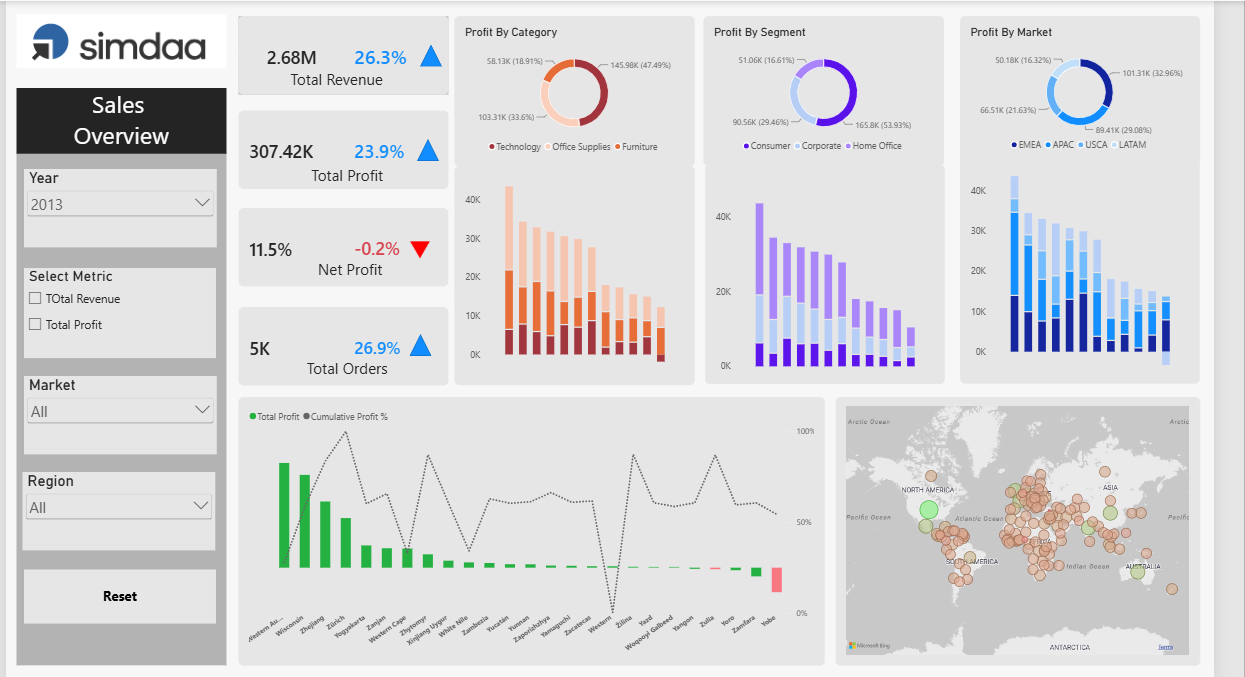

The dashboard page shown, as its layout file describes it:
{"tool":"powerbi","page":{"name":"Page 1","canvas":[1920,1080],"ordinal":0},"visuals":[{"type":"textbox","box":[15.9,138.5,333.9,104.5],"z":0},{"type":"textbox","box":[15.9,243,333.9,813.1],"z":1000},{"type":"slicer","fields":{"Values":["Calendar.Year"]},"box":[29.5,268,306.6,124.9],"z":2000},{"type":"slicer","fields":{"Values":["Orders.Region"]},"box":[26.2,749.2,306.6,124.9],"z":3000},{"type":"slicer","fields":{"Values":["Orders.Market"]},"box":[28.6,596.5,306.6,124.9],"z":4000},{"type":"cardVisual","title":"Total Revenue","fields":{"Data":["Calendar.TOtal Revenue"]},"box":[369.8,23.9,334,125],"z":5000},{"type":"group","id":"g1","title":"Group 1","box":[713.4,23.9,381.7,586.9],"z":6000},{"type":"donutChart","title":"Profit By Category","fields":{"Y":["Sum(Orders.Profit)"],"Category":["Orders.Category"]},"box":[713.4,23.9,382,239.5],"z":7000,"group":"g1"},{"type":"group","id":"g2","title":"Group 2","box":[1109.5,23.9,381.7,586.9],"z":7000},{"type":"donutChart","title":"Profit By Segment","fields":{"Y":["Sum(Orders.Profit)"],"Category":["Orders.Segment"]},"box":[1109.5,23.9,382.8,238.6],"z":8000,"group":"g2"},{"type":"group","id":"g3","title":"Group 3","box":[1517.4,23.9,381.7,584.5],"z":8000},{"type":"textbox","box":[714,19,334,310],"z":9000},{"type":"donutChart","title":"Profit By Market","fields":{"Y":["Sum(Orders.Profit)"],"Category":["Orders.Market"]},"box":[1517.4,23.9,381.7,236.8],"z":9000,"group":"g3"},{"type":"cardVisual","fields":{"Data":["Calendar.Total Profit"]},"box":[369.8,174.2,334,125],"z":10000},{"type":"columnChart","fields":{"Y":["Sum(Orders.Profit)"],"Category":["Orders.Month Name"],"Series":["Orders.Market"]},"box":[1517.7,246,381.3,362.4],"z":10000,"group":"g3"},{"type":"columnChart","fields":{"Y":["Sum(Orders.Profit)"],"Category":["Orders.Month Name"],"Series":["Orders.Segment"]},"box":[1111.1,260.8,381.2,349.4],"z":10000,"group":"g2"},{"type":"columnChart","fields":{"Y":["Sum(Orders.Profit)"],"Series":["Orders.Category"],"Category":["Orders.Month Name"]},"box":[714.1,262.1,382,348.8],"z":10000,"group":"g1"},{"type":"cardVisual","fields":{"Data":["Orders.Net Profit"]},"box":[369.8,329.3,334,125],"z":11000},{"type":"cardVisual","fields":{"Data":["Orders.Total Orders"]},"box":[369.8,486.7,334,125],"z":12000},{"type":"textbox","box":[379.4,107.4,293.5,40.6],"z":13000},{"type":"textbox","box":[396.1,260.1,293.5,38.2],"z":14000},{"type":"textbox","box":[400.8,410.4,293.5,42.9],"z":15000},{"type":"textbox","box":[396.1,567.8,293.5,40.6],"z":16000},{"type":"image","box":[610.8,381.7,95.4,28.6],"z":17000},{"type":"slicer","fields":{"Values":["Select Metric.Select Metric"]},"box":[28.6,424.7,305.4,143.2],"z":18000},{"type":"lineStackedColumnComboChart","fields":{"Y":["Calendar.Total Profit"],"Y2":["Calendar.Cumulative Profit %"],"Category":["Orders.State"]},"box":[369.8,629.9,932.9,427.1],"z":19000},{"type":"map","fields":{"Size":["Calendar.Total Profit"],"Category":["Orders.Country"]},"box":[1319.4,629.9,579.8,427.1],"z":20000},{"type":"shape","box":[641.8,529.7,35,35],"z":21000},{"type":"shape","box":[653.7,219.5,35,35],"z":22000},{"type":"shape","box":[658.5,69.2,35,35],"z":23000},{"type":"actionButton","box":[28.6,904.3,305.4,85.9],"z":24000},{"type":"image","box":[16.7,0,334,128.8],"z":25000}]}

Visuals, with their boxes on the page's 1920x1080 design canvas (x1, y1, x2, y2). These are canvas units, not pixel positions in the 1245x677 screenshot, which may show the page scaled, cropped or inside an application window:
textbox: x1=16 y1=138 x2=350 y2=243
textbox: x1=16 y1=243 x2=350 y2=1056
slicer - Calendar.Year: x1=30 y1=268 x2=336 y2=393
slicer - Orders.Region: x1=26 y1=749 x2=333 y2=874
slicer - Orders.Market: x1=29 y1=596 x2=335 y2=721
"Total Revenue" cardVisual: x1=370 y1=24 x2=704 y2=149
"Group 1" group: x1=713 y1=24 x2=1095 y2=611
"Profit By Category" donutChart: x1=713 y1=24 x2=1095 y2=263
"Group 2" group: x1=1110 y1=24 x2=1491 y2=611
"Profit By Segment" donutChart: x1=1110 y1=24 x2=1492 y2=262
"Group 3" group: x1=1517 y1=24 x2=1899 y2=608
textbox: x1=714 y1=19 x2=1048 y2=329
"Profit By Market" donutChart: x1=1517 y1=24 x2=1899 y2=261
cardVisual - Calendar.Total Profit: x1=370 y1=174 x2=704 y2=299
columnChart - Sum(Orders.Profit) x Orders.Month Name: x1=1518 y1=246 x2=1899 y2=608
columnChart - Sum(Orders.Profit) x Orders.Month Name: x1=1111 y1=261 x2=1492 y2=610
columnChart - Sum(Orders.Profit) x Orders.Category: x1=714 y1=262 x2=1096 y2=611
cardVisual - Orders.Net Profit: x1=370 y1=329 x2=704 y2=454
cardVisual - Orders.Total Orders: x1=370 y1=487 x2=704 y2=612
textbox: x1=379 y1=107 x2=673 y2=148
textbox: x1=396 y1=260 x2=690 y2=298
textbox: x1=401 y1=410 x2=694 y2=453
textbox: x1=396 y1=568 x2=690 y2=608
image: x1=611 y1=382 x2=706 y2=410
slicer - Select Metric.Select Metric: x1=29 y1=425 x2=334 y2=568
lineStackedColumnComboChart - Calendar.Total Profit x Calendar.Cumulative Profit %: x1=370 y1=630 x2=1303 y2=1057
map - Calendar.Total Profit x Orders.Country: x1=1319 y1=630 x2=1899 y2=1057
shape: x1=642 y1=530 x2=677 y2=565
shape: x1=654 y1=220 x2=689 y2=254
shape: x1=658 y1=69 x2=694 y2=104
actionButton: x1=29 y1=904 x2=334 y2=990
image: x1=17 y1=0 x2=351 y2=129
